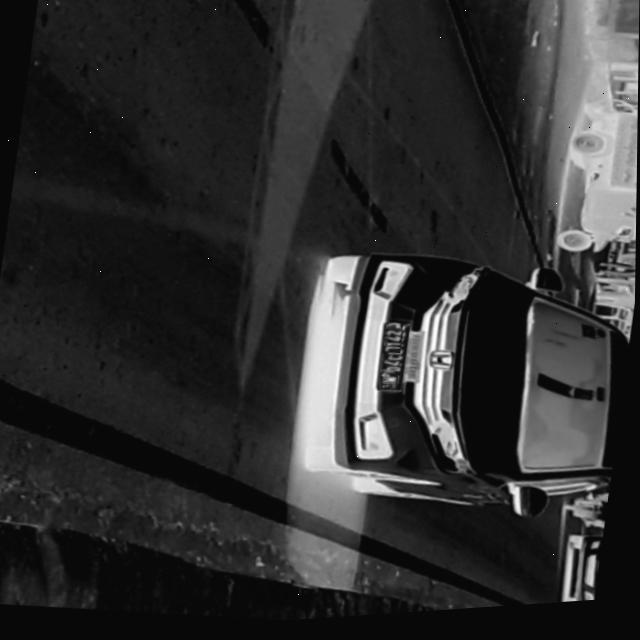0: (382, 368, 398, 378)
1: (385, 346, 401, 354)
2: (385, 333, 403, 344)
4: (386, 327, 403, 337), (385, 339, 402, 348)
7: (383, 364, 400, 373)
C: (382, 357, 400, 365)
IND: (384, 387, 398, 396)
Indian_registered: (379, 327, 409, 395)
L: (383, 350, 401, 359)
M: (381, 379, 398, 390)
P: (381, 374, 398, 383)
